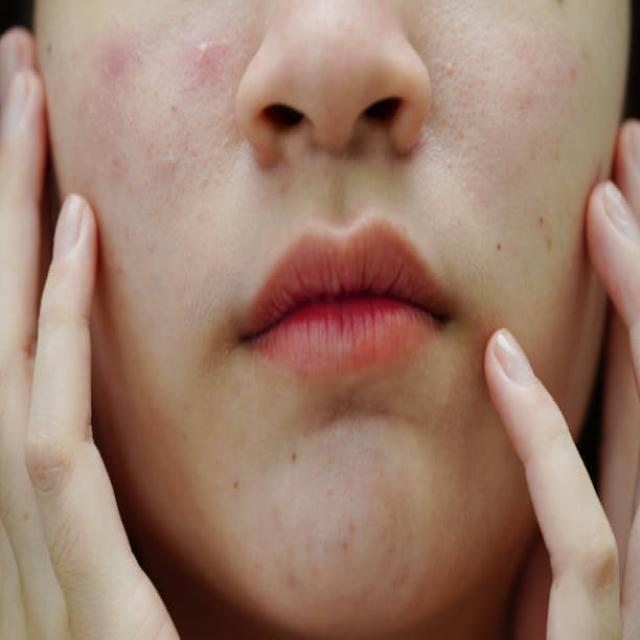Dry-Skin: (299, 396, 452, 632), (439, 68, 640, 242), (115, 256, 201, 408), (158, 47, 365, 110), (84, 47, 164, 187)
